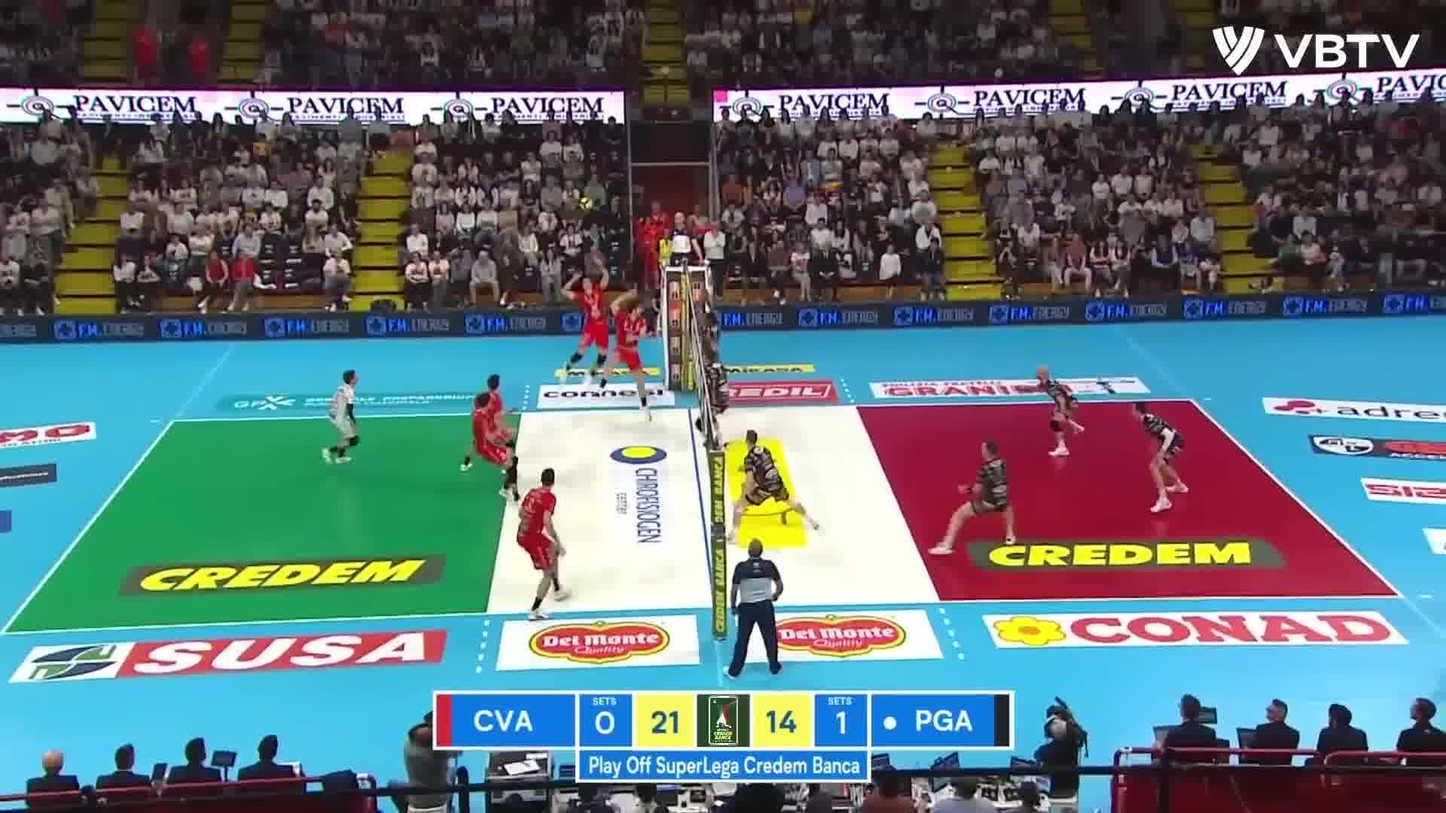balls: (580, 196, 595, 214)
